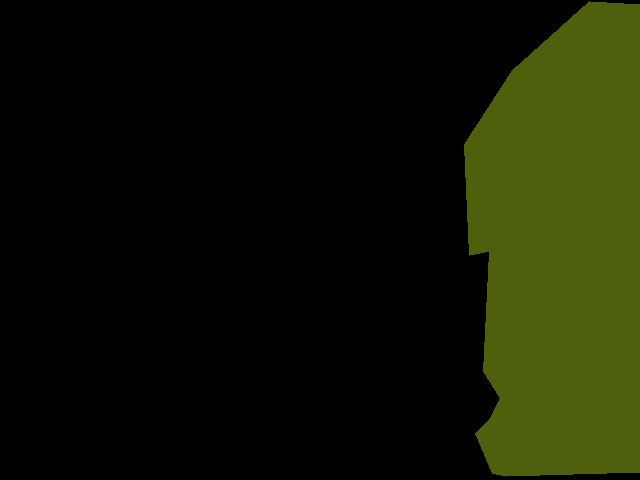Train: (464, 1, 640, 476)
